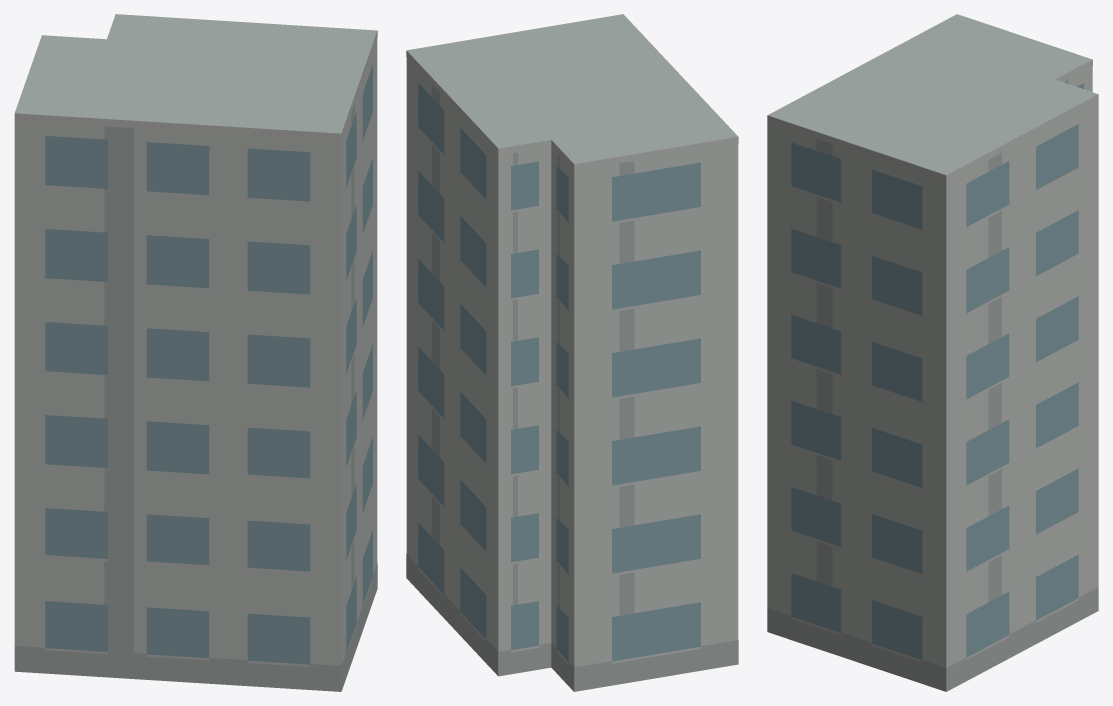
The model's file is residential-341e4327-075d-487f-96cc-021b841be7ba.glb.
3 views of the same model, side by side, from view 1: azimuth 30°, elevation 25°; view 2: azimuth 150°, elevation 25°; view 3: azimuth 270°, elevation 25° (orthographic). The views are drawn at different scales.
Parts seen in each view (by area): view 1: residential-341e4327-075d-487f-96cc-021b841be7ba.tmp; view 2: residential-341e4327-075d-487f-96cc-021b841be7ba.tmp; view 3: residential-341e4327-075d-487f-96cc-021b841be7ba.tmp.
Boxes of the visible parts, x1,y1,x2,y2 form: residential-341e4327-075d-487f-96cc-021b841be7ba.tmp: (14,14,377,691); residential-341e4327-075d-487f-96cc-021b841be7ba.tmp: (406,14,738,691); residential-341e4327-075d-487f-96cc-021b841be7ba.tmp: (767,14,1098,691).
Bounding box in the file's own units: 12.26 × 18.3 × 10.64.
